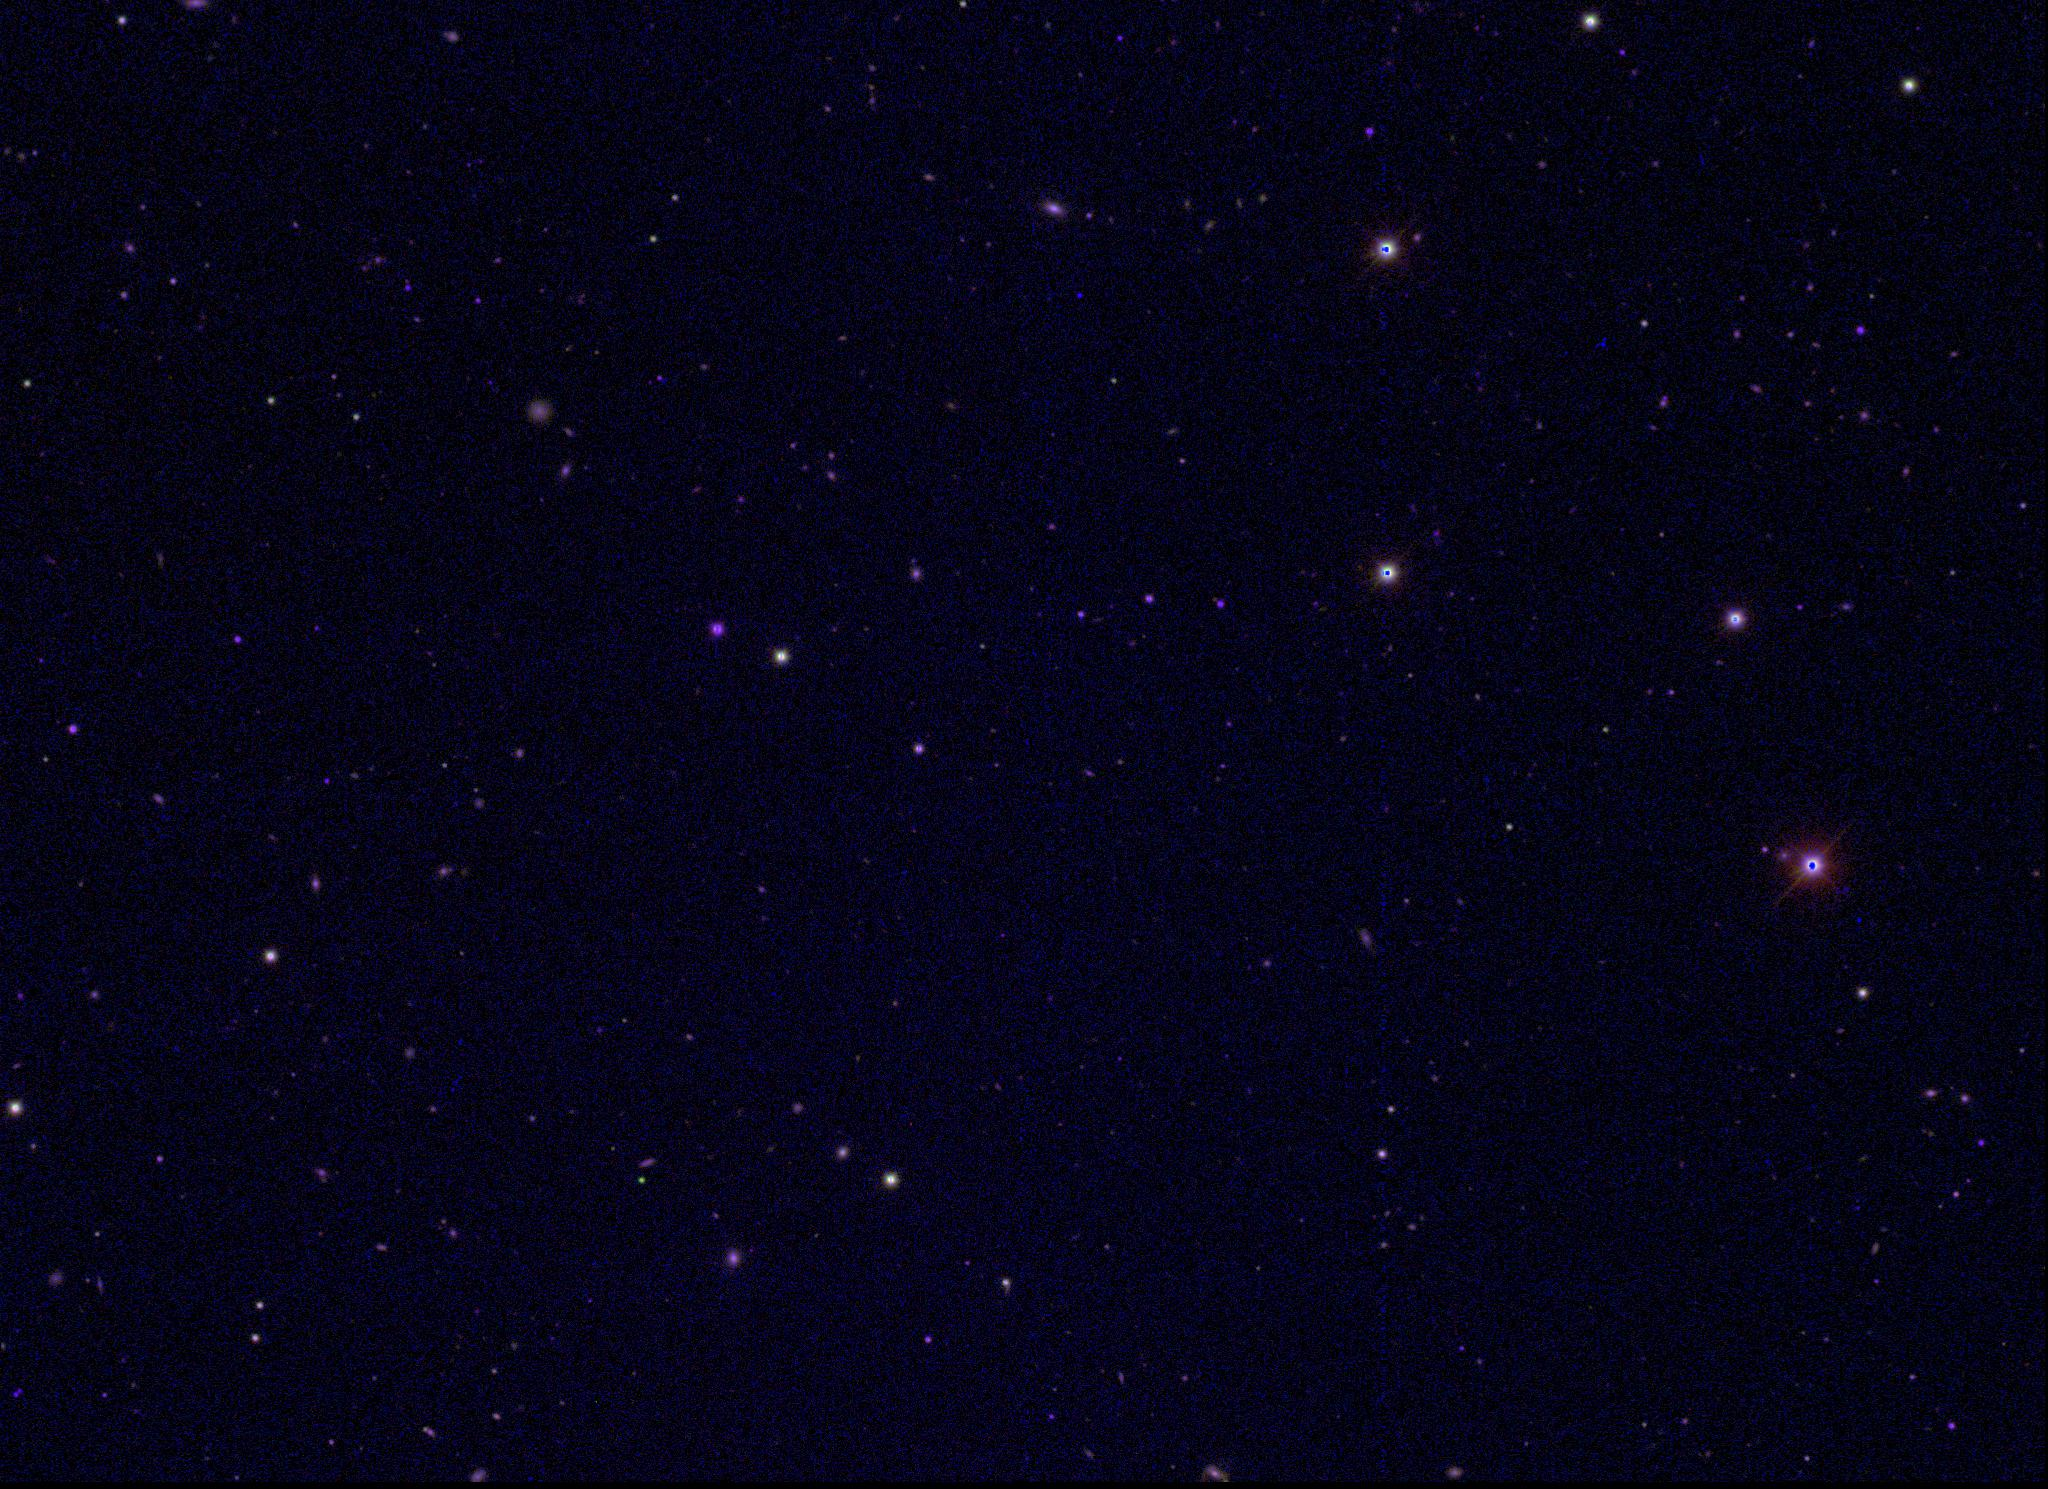L: (1070, 286, 1084, 301)
